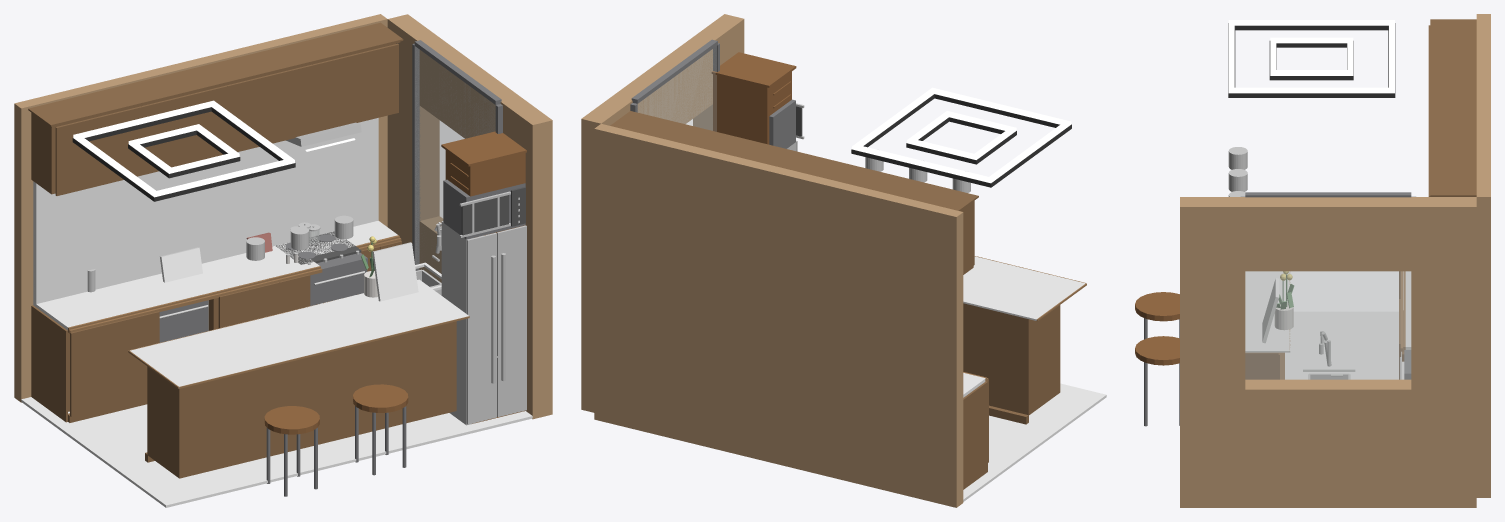
3 views of the same model, side by side, from view 1: azimuth 30°, elevation 25°; view 2: azimuth 150°, elevation 25°; view 3: azimuth 270°, elevation 25° (orthographic). The views are drawn at different scales.
Parts seen in each view (by area): view 1: FUR_r02_backsplash, FUR_r02_bar_body, FUR_r02_bar_counter, ARC_Floor_r02_kitchen, ARC_Wall_N_Kitchen, ARC_Wall_E_PierS, FUR_r02_cab_upper_crown_step, ARC_Win_W_KIT_OUTER_Glass, ARC_Wall_E_PierN, FUR_r02_ctr_main, FUR_r02_cab_upper_door_4, FUR_r02_cab_upper_door_3 (+42 smaller); view 2: ARC_Wall_N_Kitchen, FUR_r02_cab_upper_crown_step, FUR_r02_bar_door_1, ARC_Wall_E_PierN, FUR_r02_bar_counter, ARC_Floor_r02_kitchen, ARC_Wall_E_Lintel, FUR_r02_cab_tall, ARC_Win_W_KIT_OUTER_Glass, FUR_r02_bar_body, FUR_r02_cab_lower_n_sideW, ARC_Wall_E_PierS (+10 smaller); view 3: ARC_Wall_E_Sill, ARC_Wall_E_PierN, ARC_Wall_E_PierS, ARC_Win_W_KIT_OUTER_Glass, ARC_Wall_E_Lintel, FUR_r02_cab_upper_crown_step, ARC_Wall_N_Kitchen, ARC_Floor_r02_kitchen, FUR_r02_bar_counter, FUR_r02_bar_stool_2_seat, FUR_r02_bar_stool_1_seat, IOT_LIGHT_PROFILE_KITCHEN_OUTER_E (+15 smaller).
Boxes of the visible parts, <box> form: FUR_r02_backsplash: <box>33,118,378,303</box>; FUR_r02_bar_body: <box>148,321,456,478</box>; FUR_r02_bar_counter: <box>129,279,468,388</box>; ARC_Floor_r02_kitchen: <box>21,397,532,507</box>; ARC_Wall_N_Kitchen: <box>14,14,387,402</box>; ARC_Wall_E_PierS: <box>500,97,552,419</box>; FUR_r02_cab_upper_crown_step: <box>28,22,403,126</box>; ARC_Win_W_KIT_OUTER_Glass: <box>416,47,495,281</box>; ARC_Wall_E_PierN: <box>387,14,439,244</box>; FUR_r02_ctr_main: <box>33,243,319,330</box>; FUR_r02_cab_upper_door_4: <box>312,43,398,132</box>; FUR_r02_cab_upper_door_3: <box>227,64,313,151</box>; ARC_Wall_N_Kitchen: <box>594,123,963,507</box>; FUR_r02_cab_upper_crown_step: <box>610,111,978,210</box>; FUR_r02_bar_door_1: <box>963,303,1029,414</box>; ARC_Wall_E_PierN: <box>581,96,632,412</box>; FUR_r02_bar_counter: <box>963,256,1085,320</box>; ARC_Floor_r02_kitchen: <box>963,383,1106,501</box>; ARC_Wall_E_Lintel: <box>613,37,712,123</box>; FUR_r02_cab_tall: <box>713,71,791,144</box>; ARC_Win_W_KIT_OUTER_Glass: <box>638,46,716,131</box>; FUR_r02_bar_body: <box>1029,305,1060,414</box>; FUR_r02_cab_lower_n_sideW: <box>963,381,987,489</box>; ARC_Wall_E_PierS: <box>693,14,744,130</box>; ARC_Wall_E_Sill: <box>1245,379,1411,507</box>; ARC_Wall_E_PierN: <box>1411,197,1476,507</box>; ARC_Wall_E_PierS: <box>1180,197,1245,507</box>; ARC_Win_W_KIT_OUTER_Glass: <box>1245,271,1410,379</box>; ARC_Wall_E_Lintel: <box>1245,197,1411,271</box>; FUR_r02_cab_upper_crown_step: <box>1430,19,1476,196</box>; ARC_Wall_N_Kitchen: <box>1476,14,1490,497</box>; ARC_Floor_r02_kitchen: <box>1285,311,1404,379</box>; FUR_r02_bar_counter: <box>1245,271,1290,352</box>; FUR_r02_bar_stool_2_seat: <box>1135,336,1179,365</box>; FUR_r02_bar_stool_1_seat: <box>1135,292,1179,321</box>; IOT_LIGHT_PROFILE_KITCHEN_OUTER_E: <box>1228,87,1394,93</box>.
Bounding box in the file's own units: 3.85 × 2.82 × 3.
